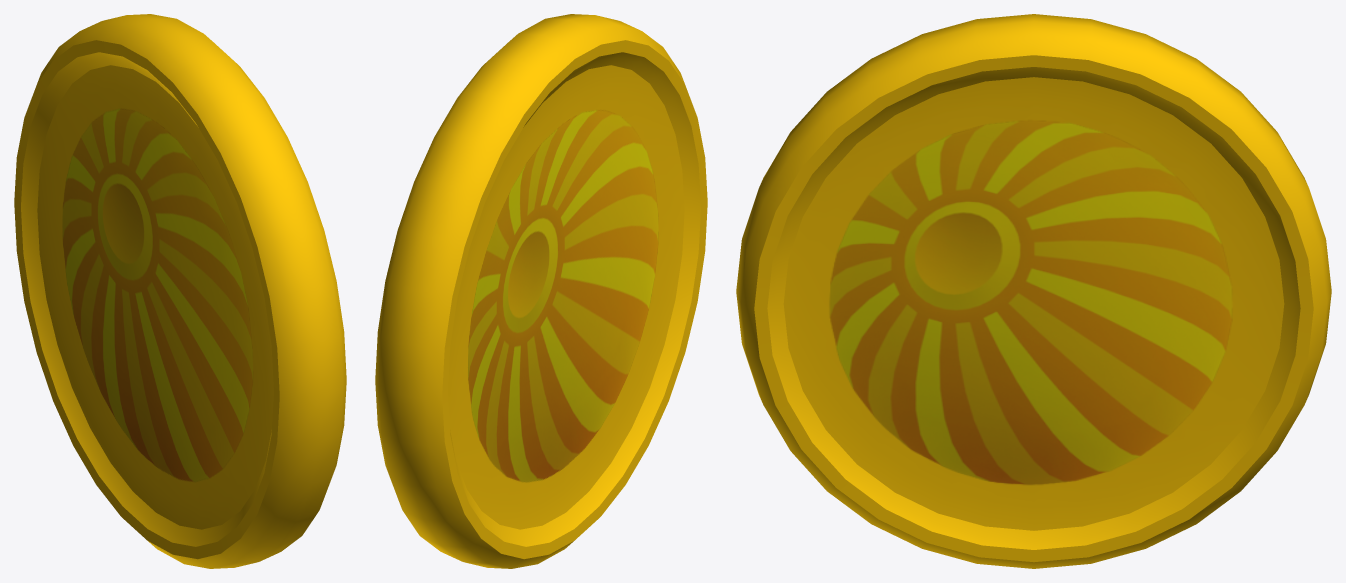
The model's file is coin_pickup.fbx.
3 views of the same model, side by side, from view 1: azimuth 30°, elevation 25°; view 2: azimuth 150°, elevation 25°; view 3: azimuth 270°, elevation 25° (orthographic). The views are drawn at different scales.
Visible parts, largest first — view 1: coin_pickup; view 2: coin_pickup; view 3: coin_pickup.
Boxes of the visible parts, box(x1,y1,x2,y2) form: coin_pickup: box(14, 14, 346, 568); coin_pickup: box(375, 14, 707, 568); coin_pickup: box(736, 14, 1331, 568).
Size of the model in its own units: 6.51 by 47.64 by 47.64.
